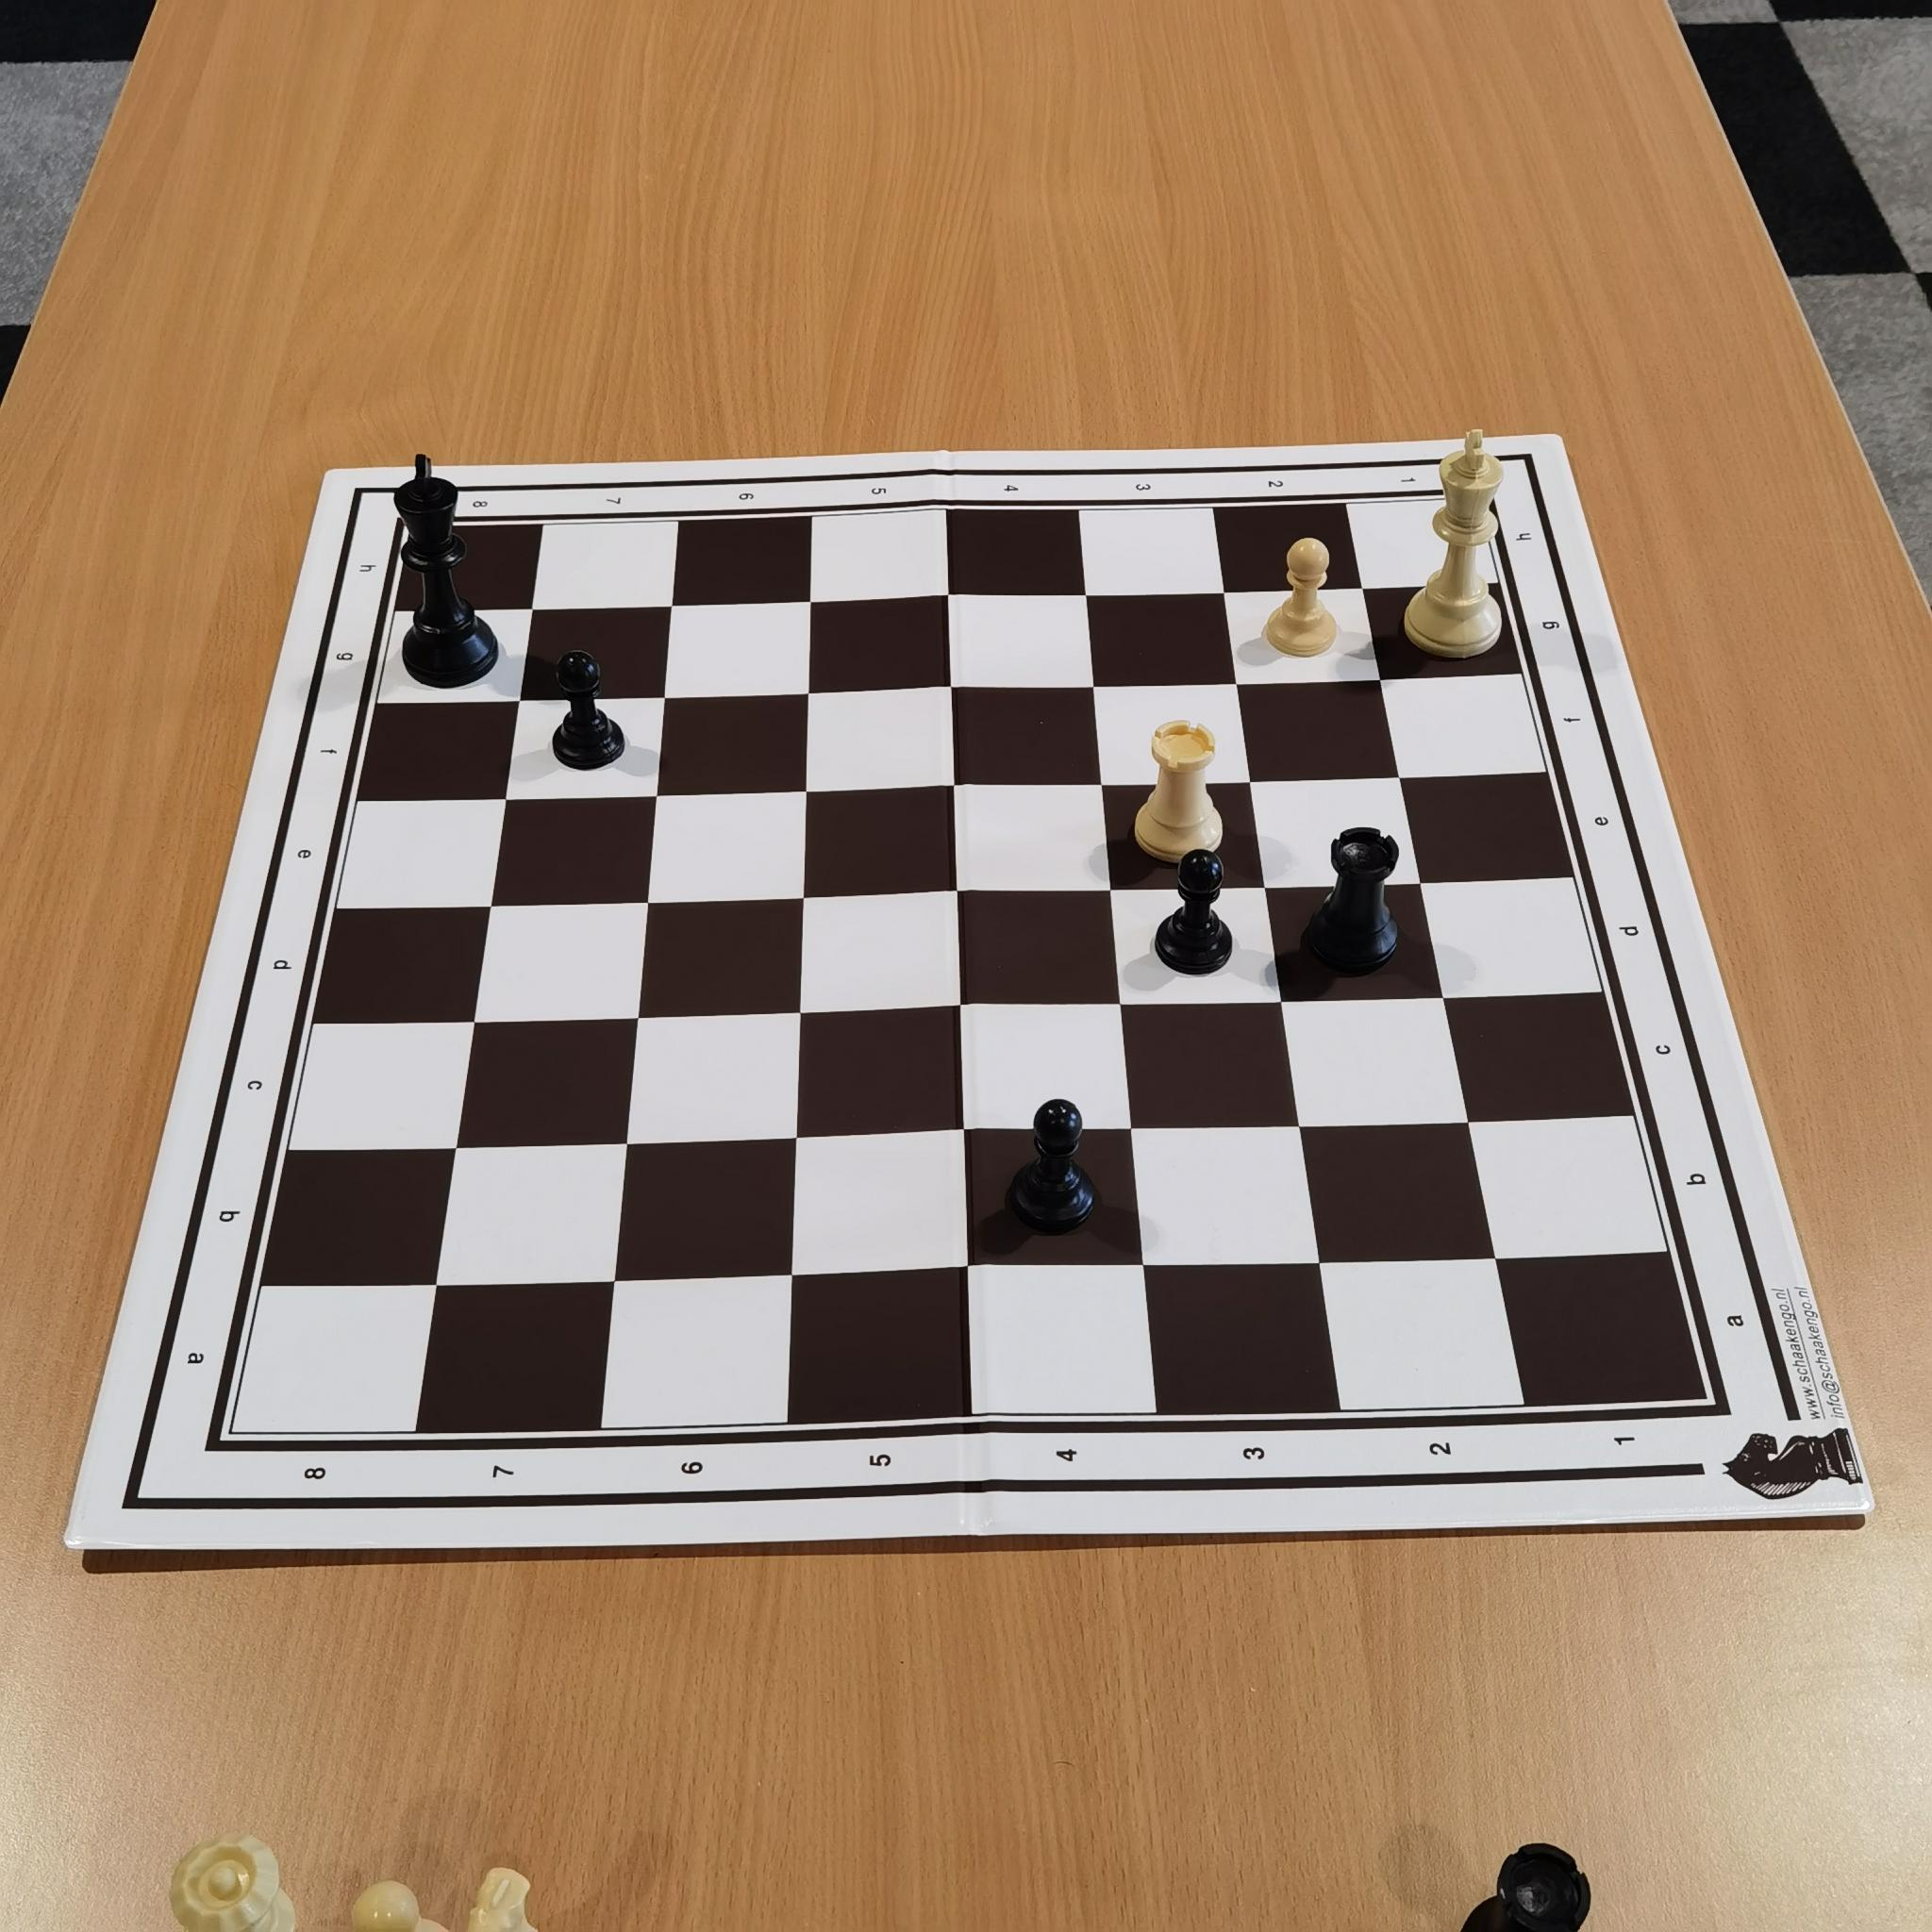corners: (202, 1408, 262, 1456), (1684, 1371, 1729, 1428), (1453, 472, 1509, 517), (386, 506, 432, 547)
eight: (290, 1442, 347, 1504), (456, 488, 497, 524)
one: (1589, 1403, 1661, 1474), (1387, 458, 1428, 494)
